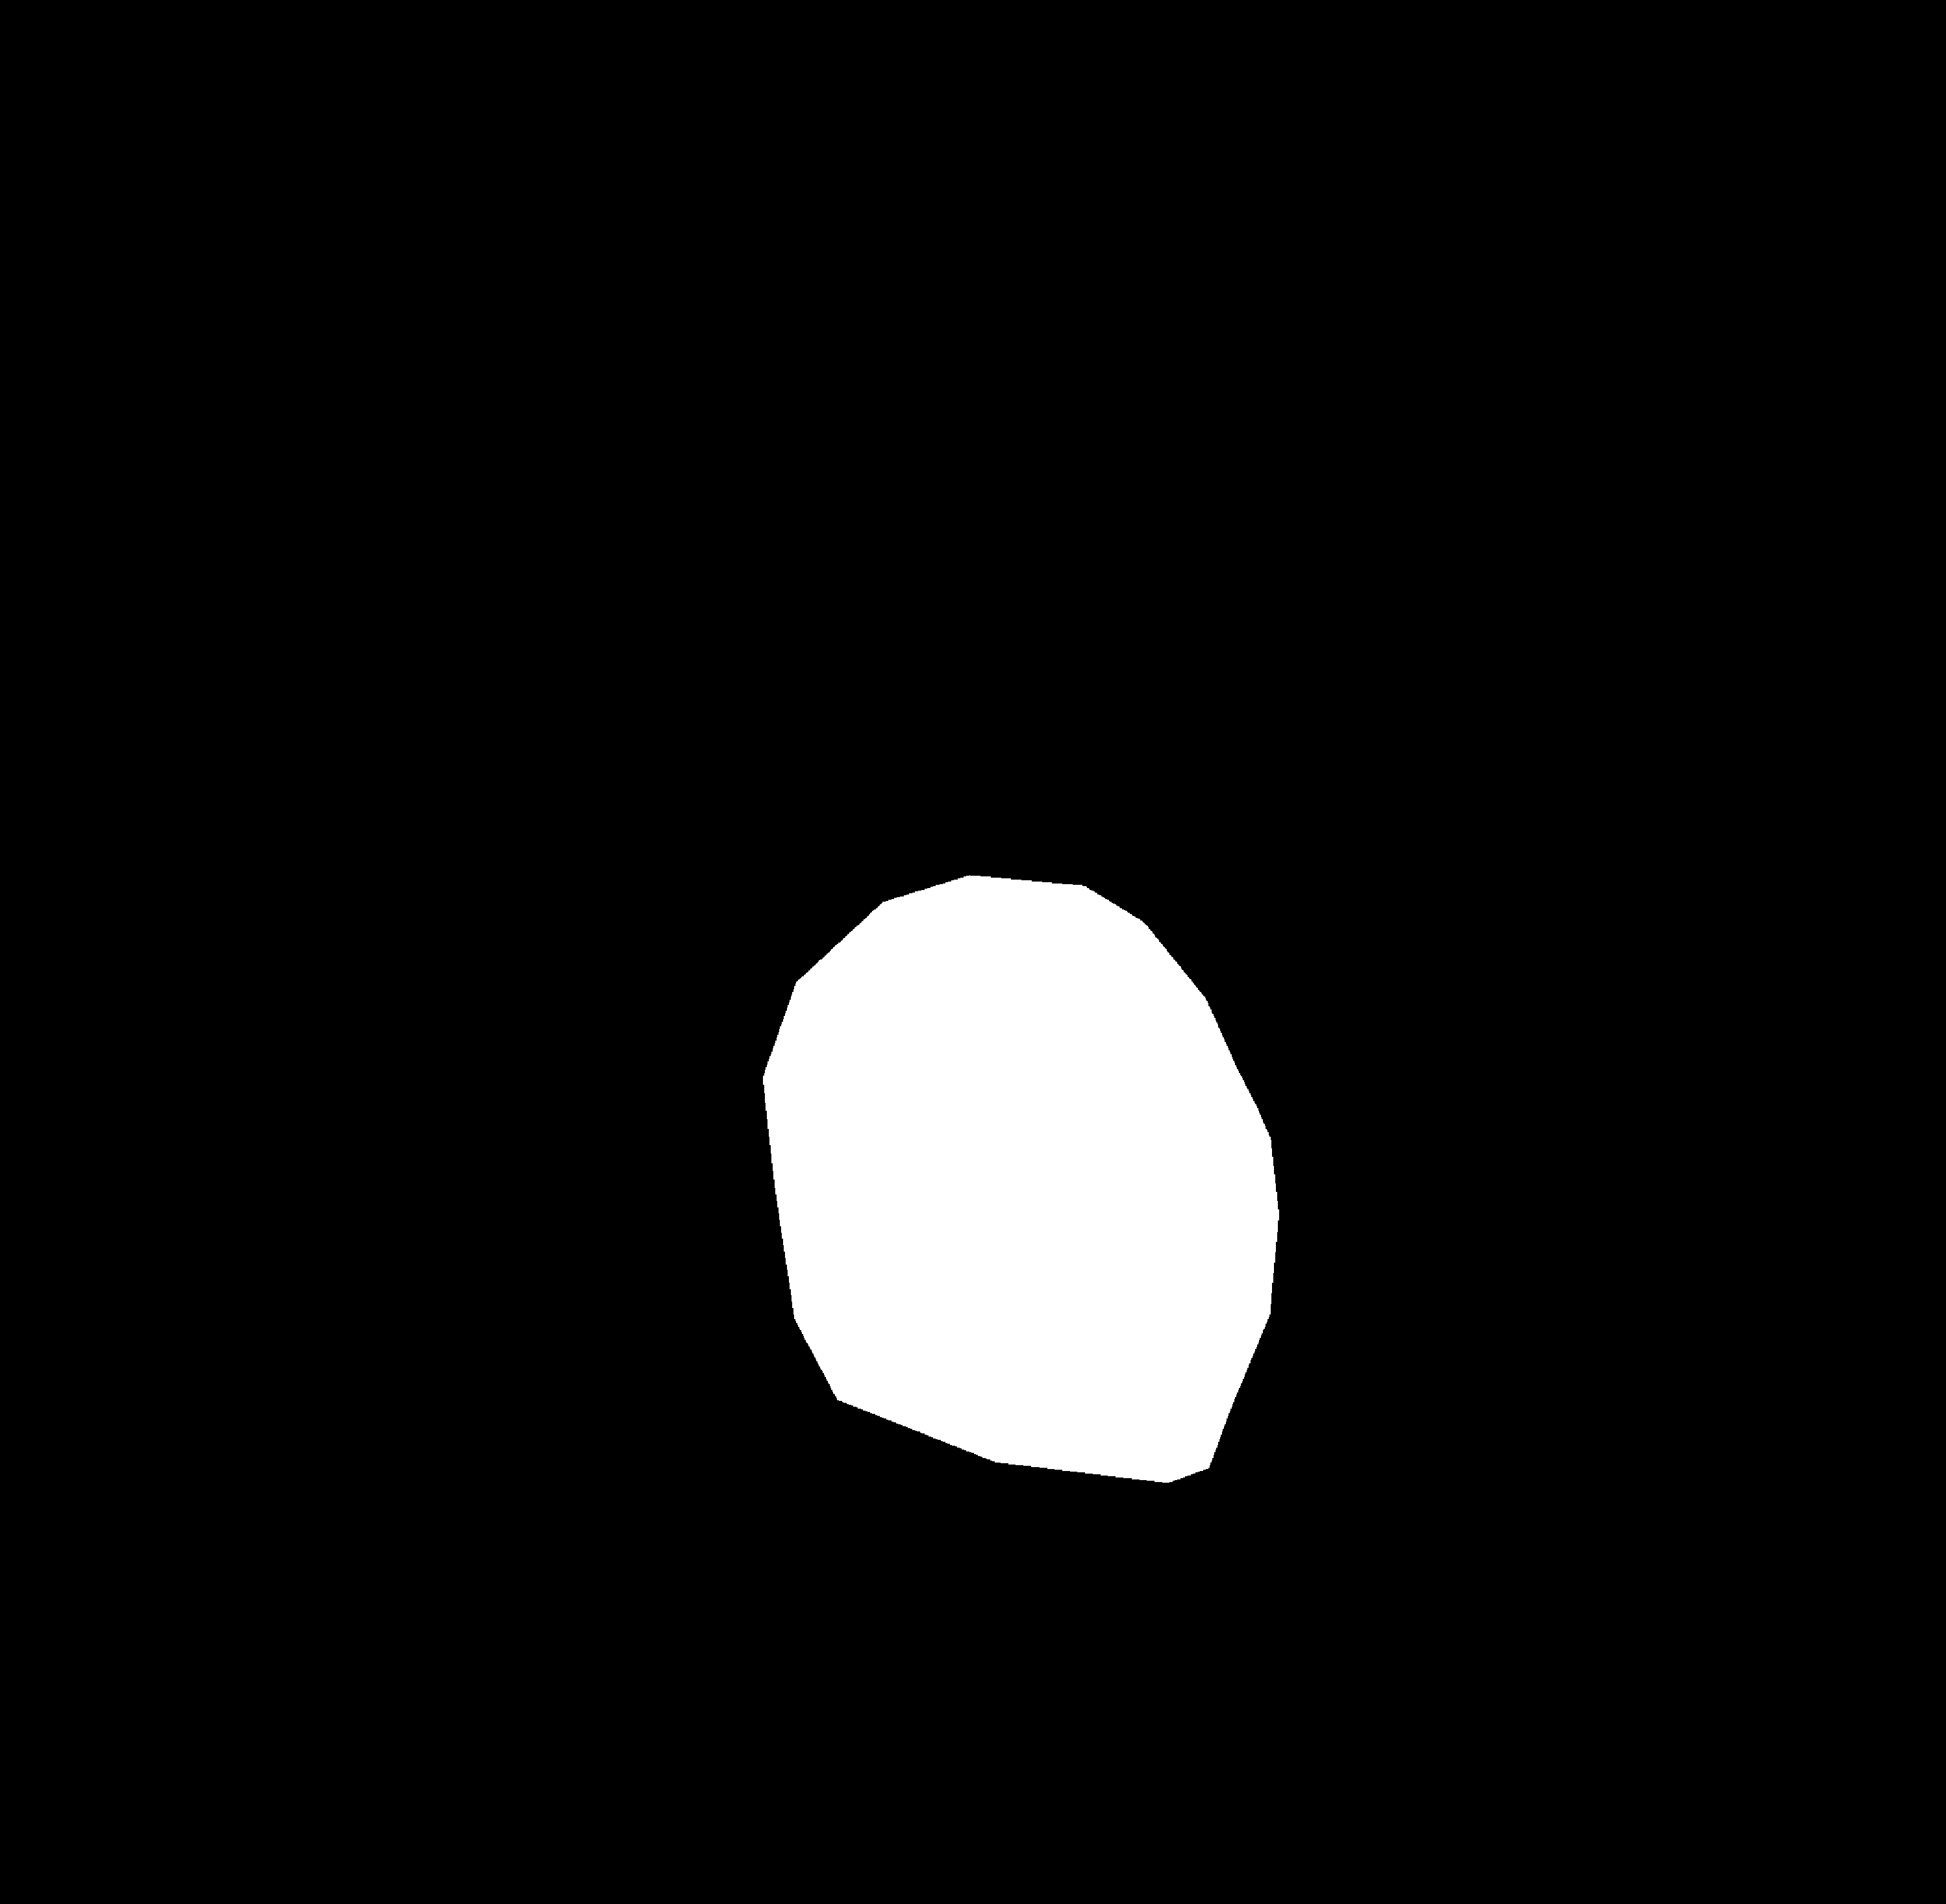heart: (757, 936, 1280, 1594)
left_lung: (415, 664, 830, 1499)
right_lung: (1031, 262, 1596, 1765)
